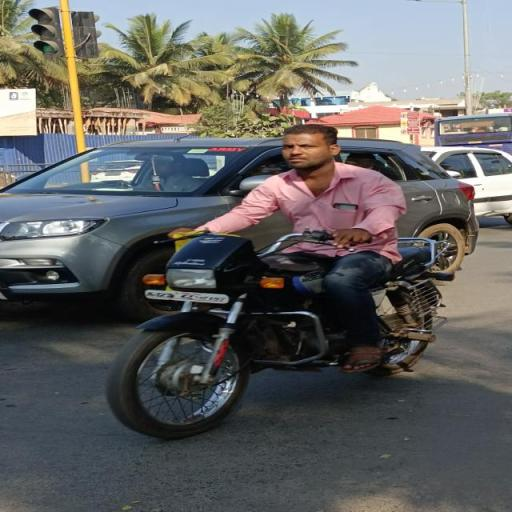bike: (99, 118, 469, 450)
withouthelmet: (281, 126, 339, 172), (143, 288, 230, 304)
